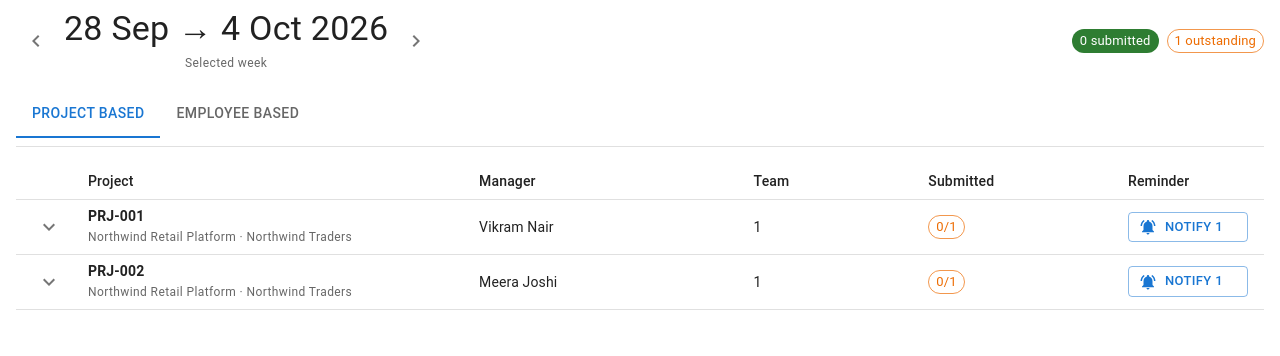
Test: TimesheetTrackingTab, project view › greys out only the Notify that was pressed, and marks it Sent
Step 1. Click the button "Notify 1" in the row of "PRJ-001" → (1188, 227), box [1128,212,1248,242]
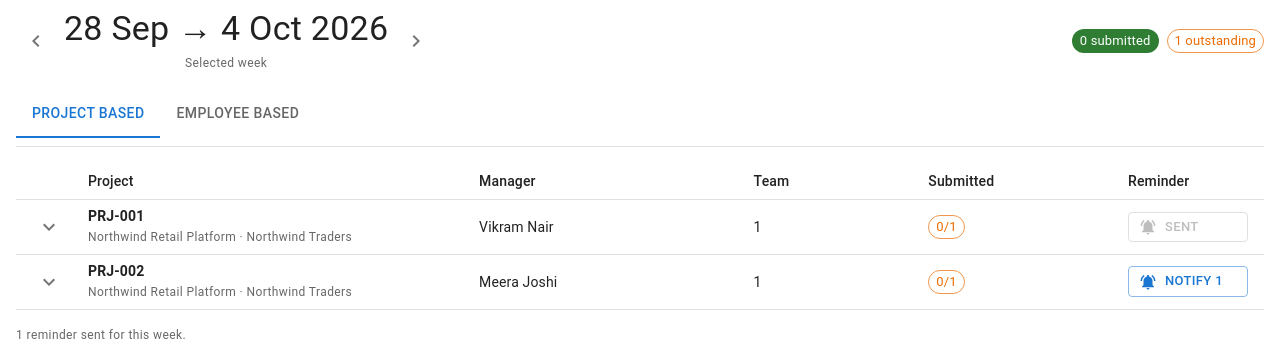
Expected: the button "Notify 1" is enabled, [1128,266,1248,297]
Now the button "Sent" is disabled, box [1128,212,1248,242]
